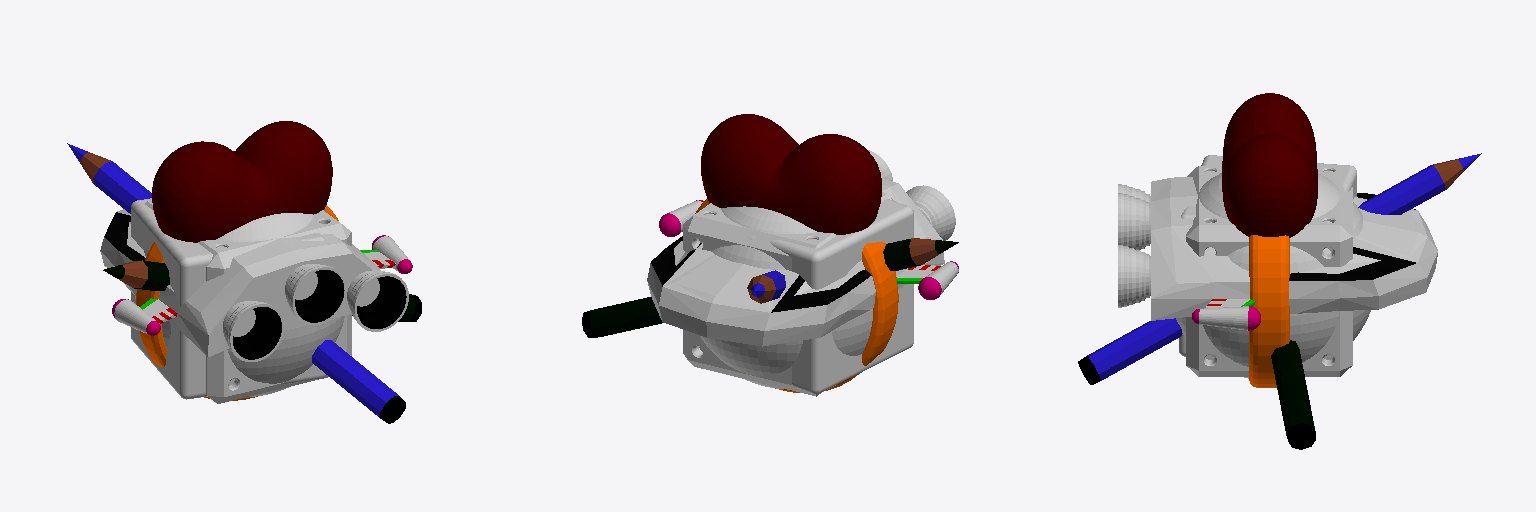
The model's file is ProjectFileconbake.obj.
3 renders of one model, left to right at view 1: azimuth 30°, elevation 25°; view 2: azimuth 150°, elevation 25°; view 3: azimuth 270°, elevation 25°, orthographic.
Parts seen in each view (by area): view 1: Propulsori_Circle.006, BASE_HEART_Material_#41_0, Cube.026_Cube.031, Matita_viola_Plane.006, Sphere.001, Question_Material_0, Matita_verde_Plane.005, Coin_Coin_0; view 2: Propulsori_Circle.006, BASE_HEART_Material_#41_0, Cube.026_Cube.031, Sphere.001, Question_Material_0, Matita_verde_Plane.005, Coin_Coin_0, Matita_viola_Plane.006; view 3: Propulsori_Circle.006, BASE_HEART_Material_#41_0, Question_Material_0, Sphere.001, Matita_viola_Plane.006, Coin_Coin_0, Matita_verde_Plane.005, Cube.026_Cube.031.
Part boxes in pixels (x1,y1,x2,y2): Propulsori_Circle.006: (100,209,412,361); BASE_HEART_Material_#41_0: (152,121,332,242); Cube.026_Cube.031: (131,198,325,399); Matita_viola_Plane.006: (67,143,405,423); Sphere.001: (135,213,344,396); Question_Material_0: (145,200,351,403); Matita_verde_Plane.005: (103,260,421,321); Coin_Coin_0: (136,205,338,400); Propulsori_Circle.006: (647,150,958,346); BASE_HEART_Material_#41_0: (701,114,881,234); Cube.026_Cube.031: (705,199,913,394); Sphere.001: (700,206,872,388); Question_Material_0: (683,192,893,396); Matita_verde_Plane.005: (582,238,958,337); Coin_Coin_0: (695,199,898,392); Matita_viola_Plane.006: (747,270,785,303); Propulsori_Circle.006: (1118,177,1437,330); BASE_HEART_Material_#41_0: (1222,93,1317,237); Question_Material_0: (1186,166,1352,376); Sphere.001: (1176,173,1370,378); Matita_viola_Plane.006: (1078,153,1481,384); Coin_Coin_0: (1249,235,1289,387); Matita_verde_Plane.005: (1271,340,1315,449); Cube.026_Cube.031: (1179,155,1356,359).
Size of the model in its own units: 478 by 342 by 484.